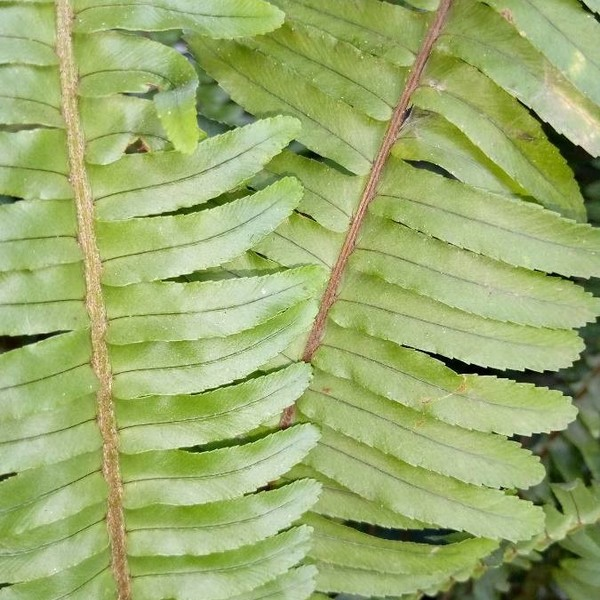obstacle: (202, 18, 561, 581), (5, 20, 329, 599)
